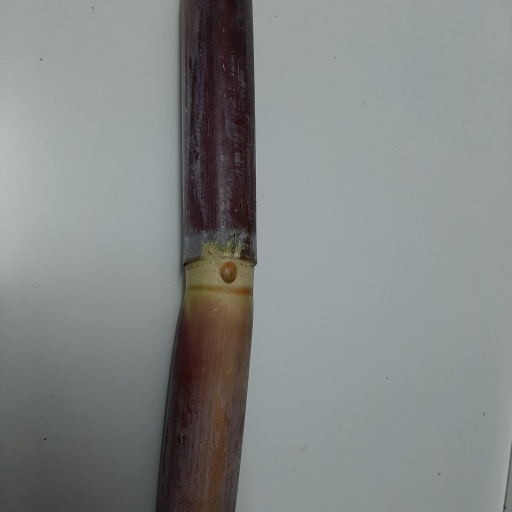Bud: (221, 261, 236, 283)
